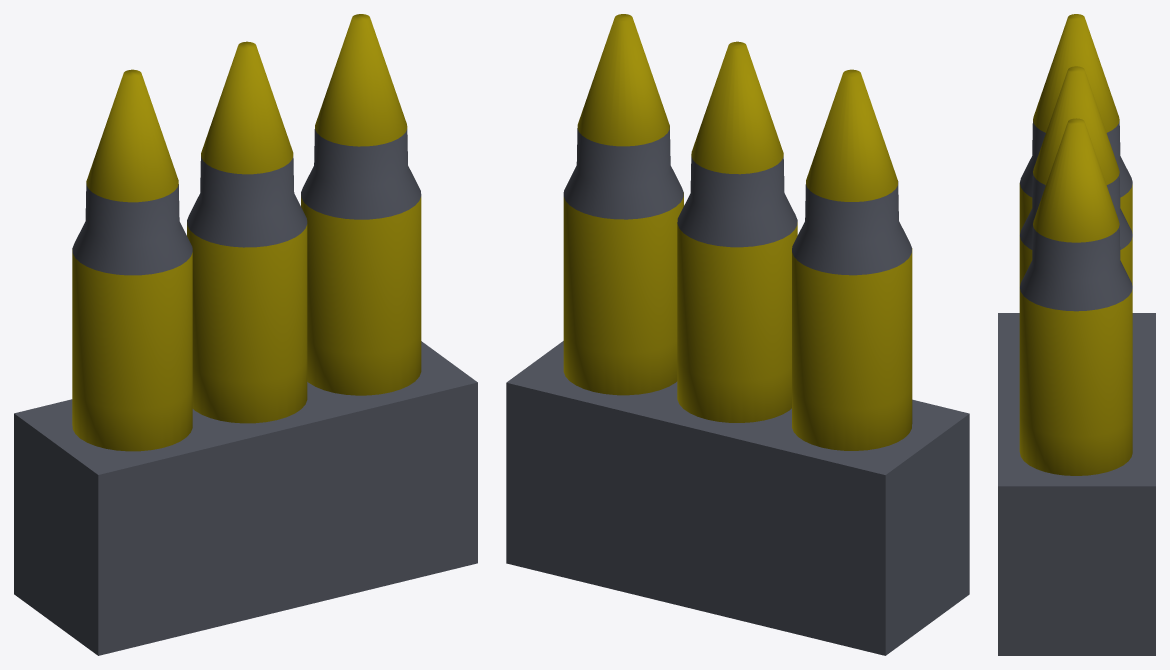
File: sniper.fbx
The picture shows the model from 3 angles, left to right: view 1: azimuth 30°, elevation 25°; view 2: azimuth 150°, elevation 25°; view 3: azimuth 270°, elevation 25°; orthographic projection. The views are drawn at different scales.
Parts seen in each view (by area): view 1: sniper ammo; view 2: sniper ammo; view 3: sniper ammo.
Part boxes in pixels (x1=…): sniper ammo: x1=14, y1=14, x2=477, y2=655; sniper ammo: x1=506, y1=14, x2=969, y2=655; sniper ammo: x1=998, y1=14, x2=1155, y2=655.
Size of the model in its own units: 620 by 832 by 238.
